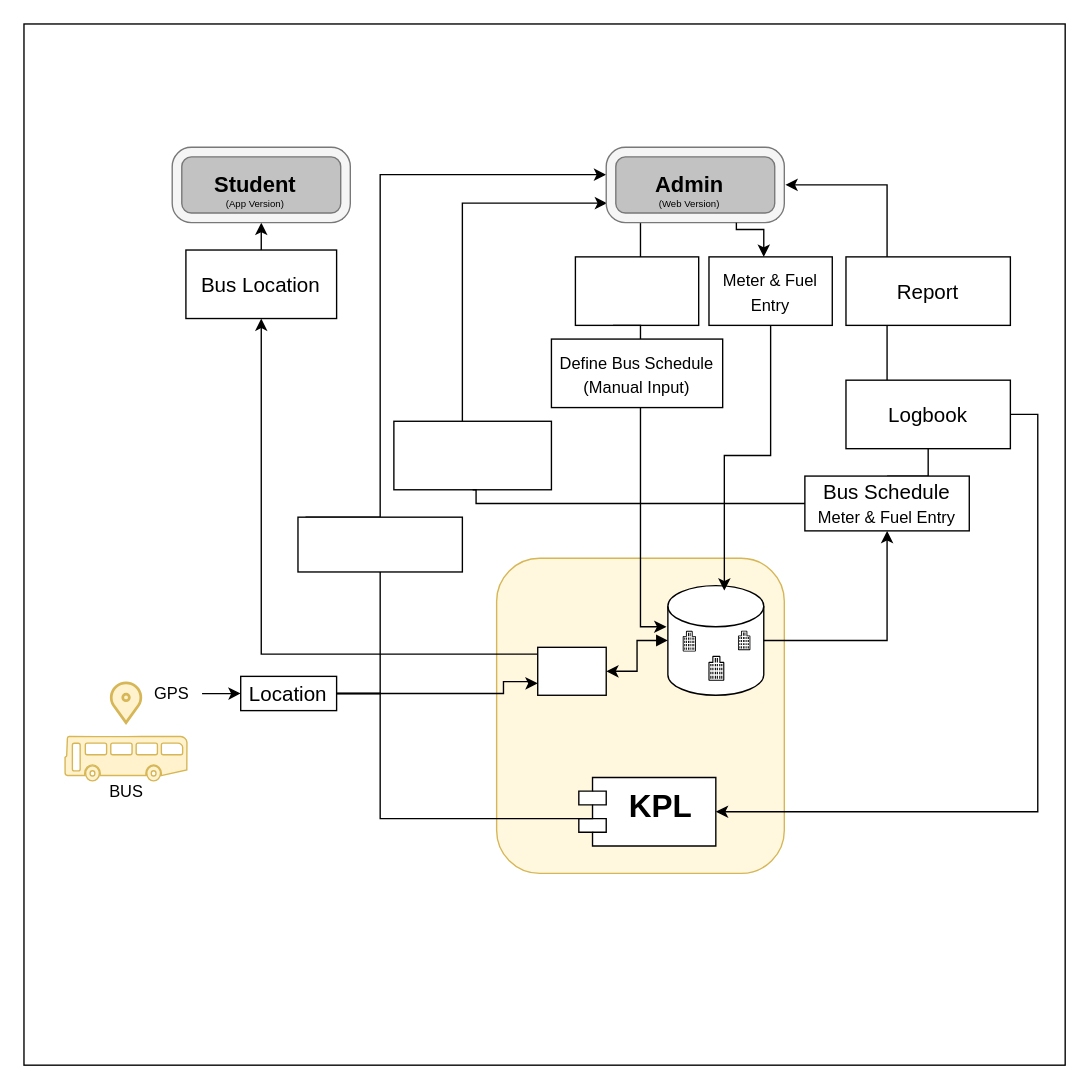
This 1089x1089 diagram has some shape labels left out. Here are the shapes that lost their labels. From the top down, the centre of each, then its label:
the point at 636,290: Assign Bus
the point at 472,455: On Road Bus Control
the point at 379,544: KPL Report
the point at 571,670: API
